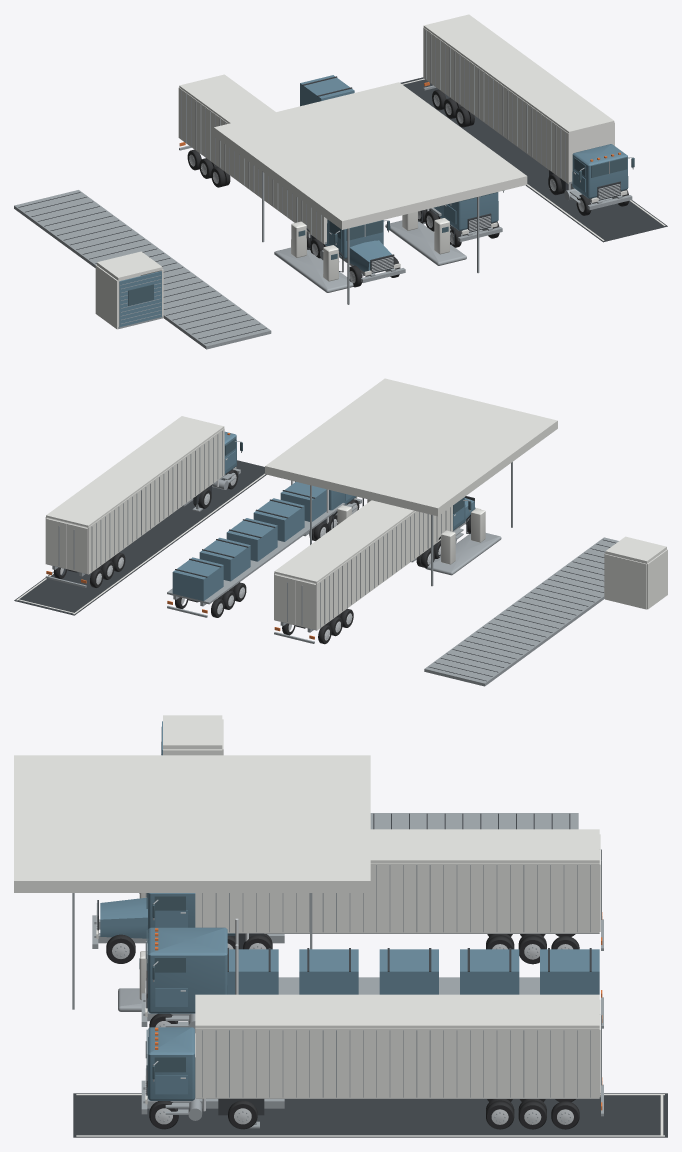
The picture shows the model from 3 angles, top to bottom: view 1: azimuth 30°, elevation 25°; view 2: azimuth 150°, elevation 25°; view 3: azimuth 270°, elevation 25°; orthographic projection. The views are drawn at different scales.
Visible parts, largest first — view 1: 000-fuel-canopy/1, 009-dry-van-trailer/20, 010-weighbridge-plate/0, 005-refrigerated-trailer/20, 007-parking-bay-marking/0, 011-weigh-station-booth/1, 009-dry-van-trailer/18, 010-weighbridge-plate/1, 011-weigh-station-booth/2, 008-cabover-day-cab/13, 002-diesel-pump-island/0, 003-long-nose-sleeper/19 (+11 smaller); view 2: 000-fuel-canopy/1, 009-dry-van-trailer/20, 005-refrigerated-trailer/20, 010-weighbridge-plate/0, 006-flatbed-loaded/20, 007-parking-bay-marking/0, 011-weigh-station-booth/1, 009-dry-van-trailer/18, 010-weighbridge-plate/1, 005-refrigerated-trailer/18, 006-flatbed-loaded/18, 001-diesel-pump-island/0 (+8 smaller); view 3: 000-fuel-canopy/1, 009-dry-van-trailer/20, 005-refrigerated-trailer/20, 007-parking-bay-marking/0, 006-flatbed-loaded/20, 004-cabover-sleeper/19, 010-weighbridge-plate/0, 009-dry-van-trailer/18, 005-refrigerated-trailer/18, 011-weigh-station-booth/1, 003-long-nose-sleeper/19, 008-cabover-day-cab/13 (+9 smaller).
Boxes of the visible parts, bbox=[...] form: 000-fuel-canopy/1: bbox=[214, 82, 527, 229]; 009-dry-van-trailer/20: bbox=[423, 14, 614, 184]; 010-weighbridge-plate/0: bbox=[14, 190, 271, 349]; 005-refrigerated-trailer/20: bbox=[178, 74, 327, 244]; 007-parking-bay-marking/0: bbox=[400, 77, 667, 242]; 011-weigh-station-booth/1: bbox=[95, 251, 163, 329]; 009-dry-van-trailer/18: bbox=[423, 31, 572, 189]; 010-weighbridge-plate/1: bbox=[18, 192, 266, 343]; 011-weigh-station-booth/2: bbox=[119, 271, 161, 327]; 008-cabover-day-cab/13: bbox=[572, 144, 628, 198]; 002-diesel-pump-island/0: bbox=[385, 220, 466, 265]; 003-long-nose-sleeper/19: bbox=[325, 219, 391, 273]; 000-fuel-canopy/1: bbox=[265, 378, 557, 516]; 009-dry-van-trailer/20: bbox=[45, 416, 224, 574]; 005-refrigerated-trailer/20: bbox=[274, 500, 452, 630]; 010-weighbridge-plate/0: bbox=[424, 537, 618, 686]; 006-flatbed-loaded/20: bbox=[172, 482, 326, 601]; 007-parking-bay-marking/0: bbox=[14, 460, 266, 615]; 011-weigh-station-booth/1: bbox=[604, 536, 667, 609]; 009-dry-van-trailer/18: bbox=[45, 431, 222, 587]; 010-weighbridge-plate/1: bbox=[429, 539, 615, 681]; 005-refrigerated-trailer/18: bbox=[274, 507, 450, 643]; 006-flatbed-loaded/18: bbox=[167, 503, 345, 617]; 001-diesel-pump-island/0: bbox=[425, 533, 501, 575]; 000-fuel-canopy/1: bbox=[14, 755, 370, 892]; 009-dry-van-trailer/20: bbox=[195, 994, 599, 1098]; 005-refrigerated-trailer/20: bbox=[195, 829, 599, 933]; 007-parking-bay-marking/0: bbox=[73, 1093, 667, 1137]; 006-flatbed-loaded/20: bbox=[227, 949, 599, 994]; 004-cabover-sleeper/19: bbox=[147, 927, 227, 1013]; 010-weighbridge-plate/0: bbox=[370, 813, 578, 829]; 009-dry-van-trailer/18: bbox=[195, 1014, 603, 1128]; 005-refrigerated-trailer/18: bbox=[202, 849, 603, 950]; 011-weigh-station-booth/1: bbox=[163, 715, 223, 755]; 003-long-nose-sleeper/19: bbox=[100, 893, 235, 938]; 008-cabover-day-cab/13: bbox=[147, 1027, 195, 1100].
Bounding box in the file's own units: 28.01 × 5.45 × 22.
